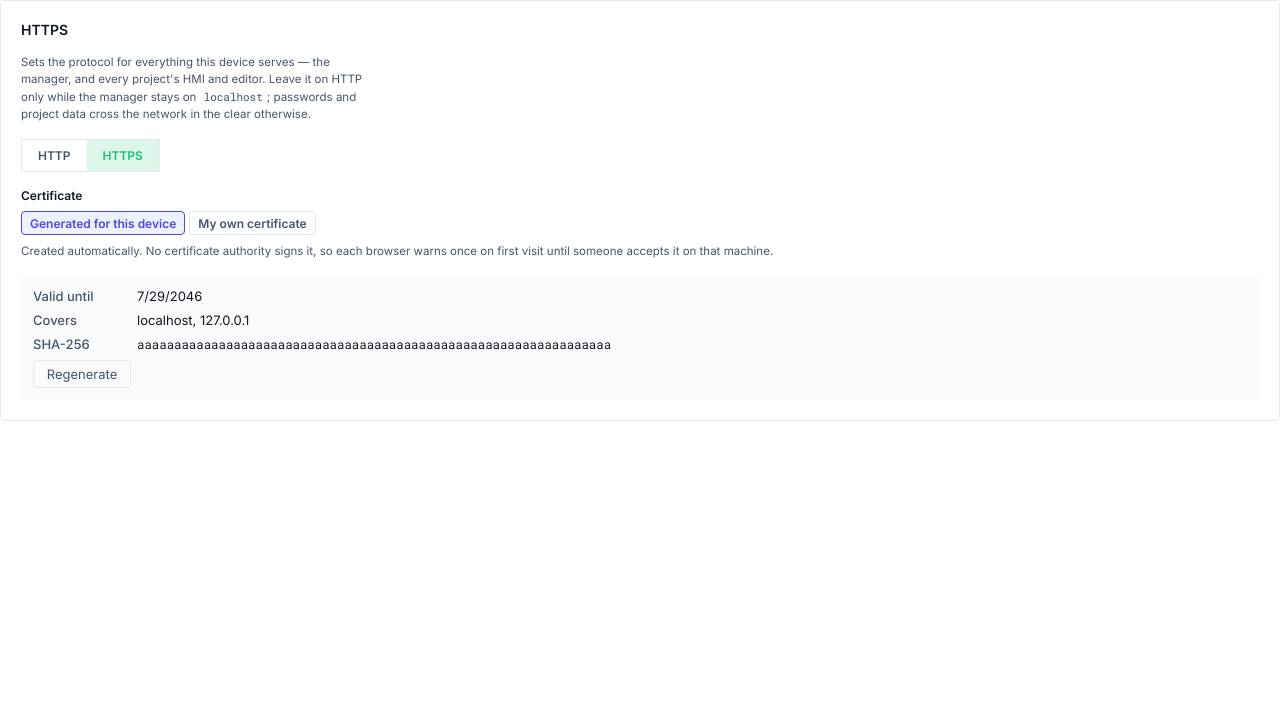
Test case: HttpsSection › reports a failed regeneration instead of leaving it unhandled
Click the button "Regenerate" at (82, 374), box [33,360,131,388]
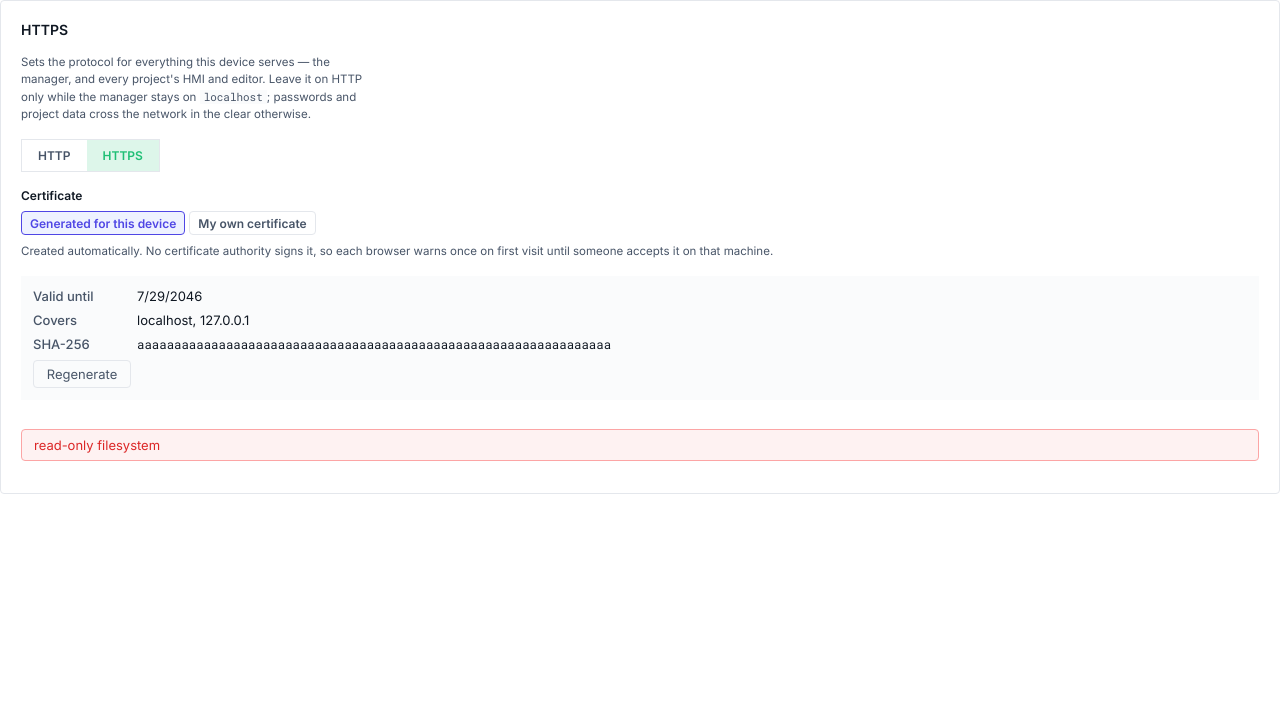
Now the text "read-only filesystem" is shown, box [21,429,1259,461]
